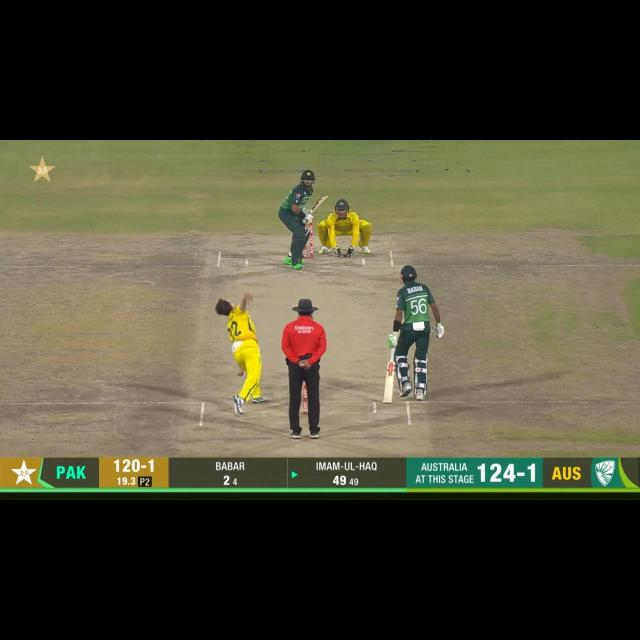bat: (383, 362, 395, 404), (310, 192, 328, 215)
toe: (319, 193, 329, 203), (384, 396, 394, 403)
